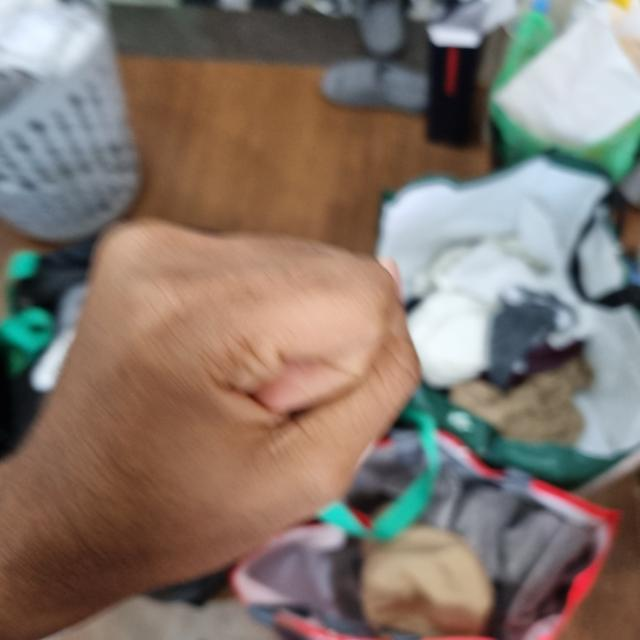Rock: (7, 220, 424, 602)
